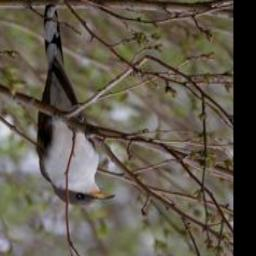Cuckoo: (33, 7, 115, 210)
